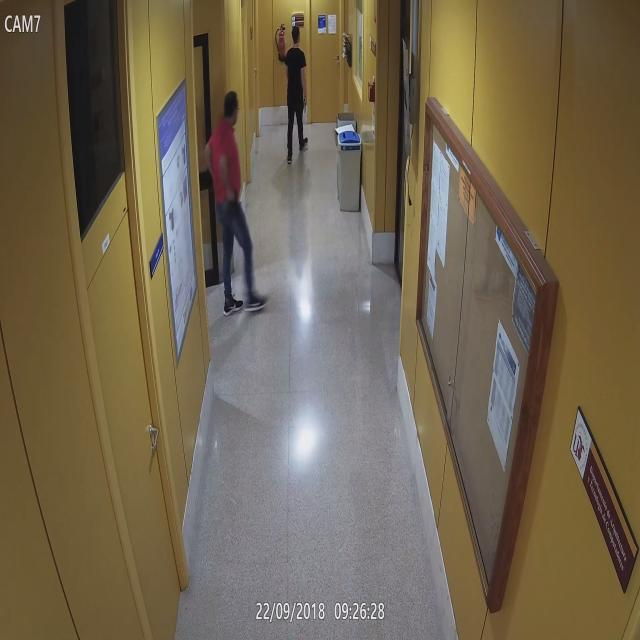pistol: (228, 187, 240, 218), (300, 96, 310, 114)
